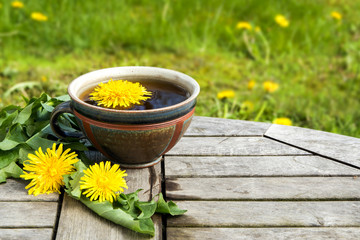dandelion: (26, 145, 77, 196), (79, 163, 127, 198), (90, 84, 147, 104)
